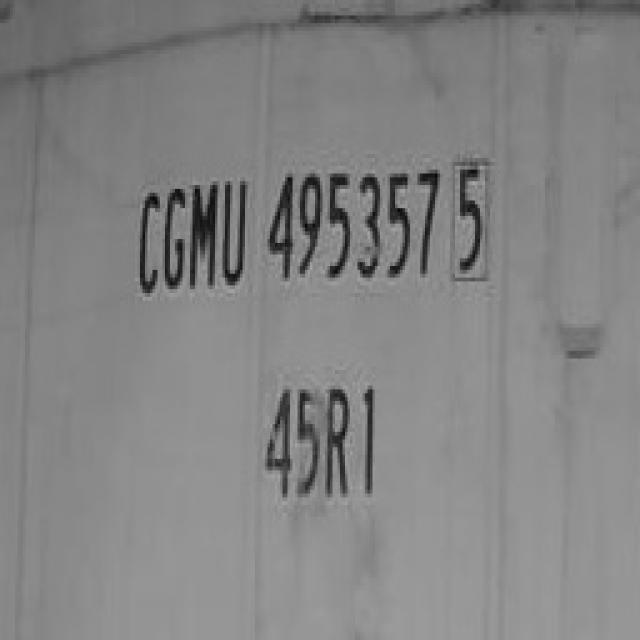dv: (450, 149, 494, 285)
owner: (121, 158, 252, 314)
serial: (265, 150, 443, 300)
size: (254, 364, 386, 519)
